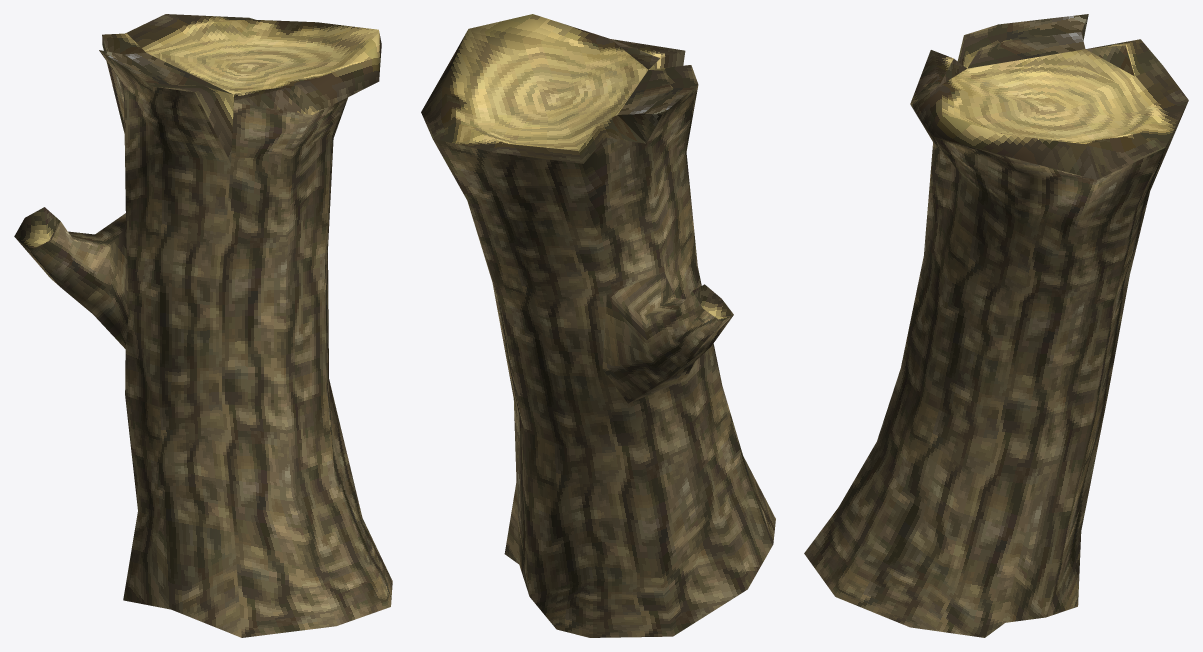
The model's file is INST_HTOWN_FLOATINGLOG.obj.
The picture shows the model from 3 angles, left to right: view 1: azimuth 30°, elevation 25°; view 2: azimuth 150°, elevation 25°; view 3: azimuth 270°, elevation 25°; orthographic projection.
Parts seen in each view (by area): view 1: fallenLog; view 2: fallenLog; view 3: fallenLog.
Boxes of the visible parts, left/top/right/bottom form: fallenLog: left=14, top=14, right=392, bottom=637; fallenLog: left=421, top=14, right=775, bottom=637; fallenLog: left=804, top=14, right=1188, bottom=637.
Size of the model in its own units: 128 by 211 by 136.
